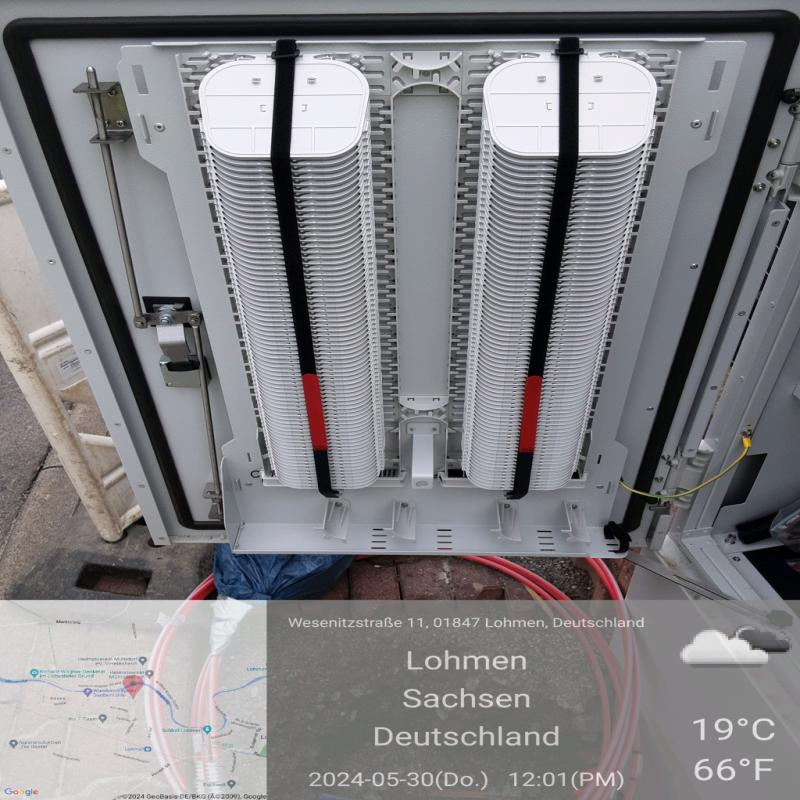Spleiskassetten: (0, 0, 800, 603), (454, 51, 673, 497), (186, 44, 392, 492)
